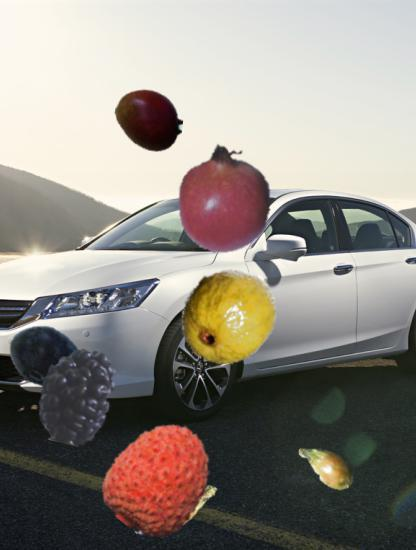Blueberry: (8, 320, 79, 391)
Cactus: (146, 467, 221, 542), (296, 434, 358, 496)
Guava: (178, 265, 280, 367)
Lychee: (103, 420, 220, 537)
Mango: (114, 86, 183, 155)
Mulberry: (26, 346, 126, 446)
Pomegranate: (170, 144, 280, 254)
